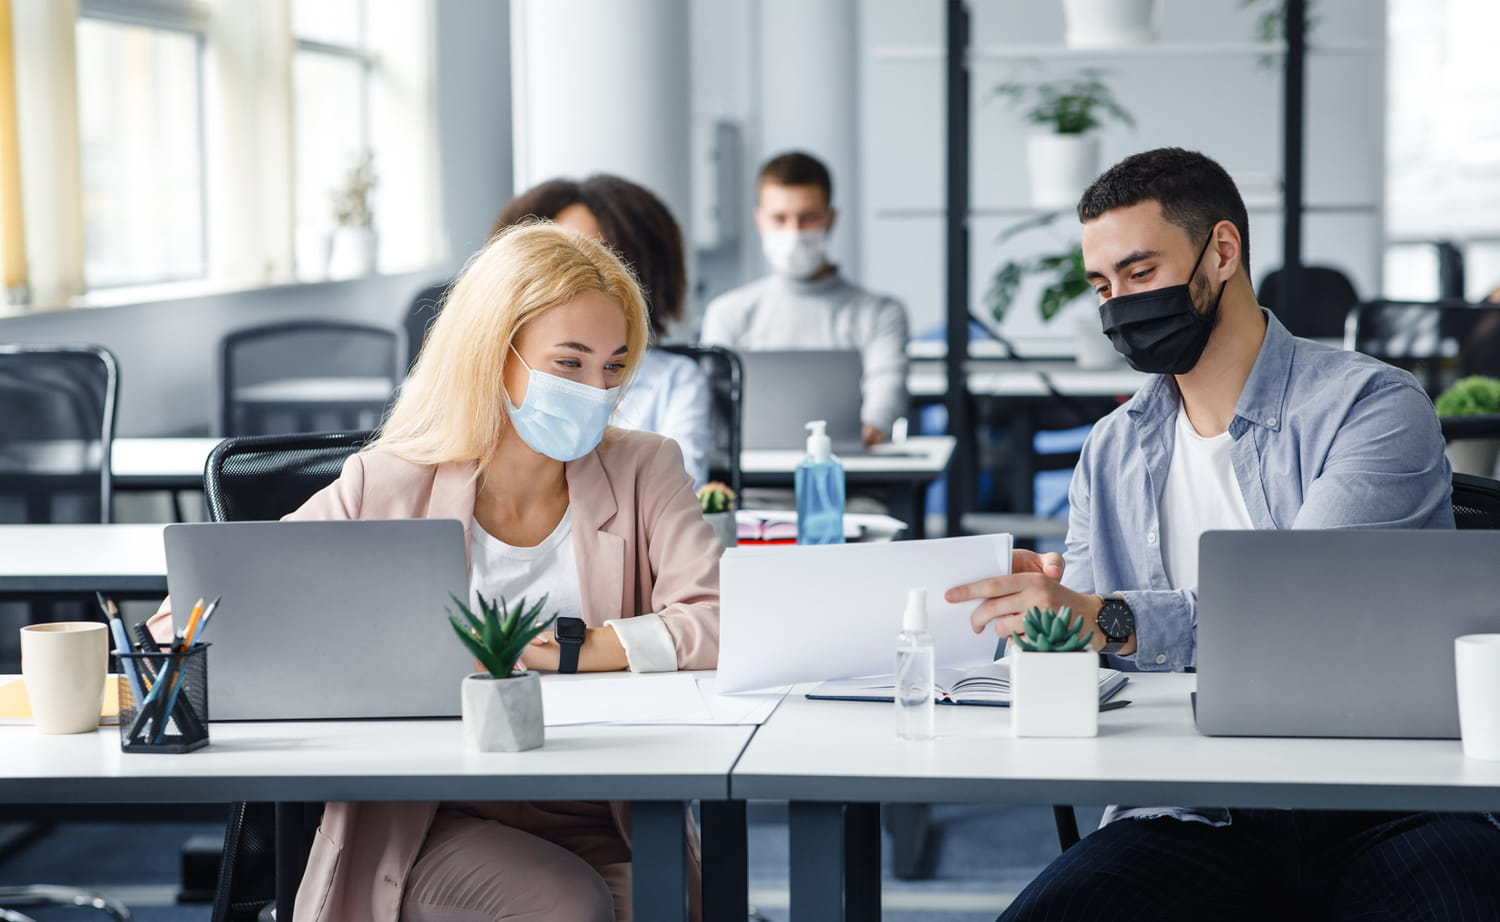with_mask: (1085, 214, 1244, 378), (514, 287, 634, 467), (767, 188, 827, 277)
